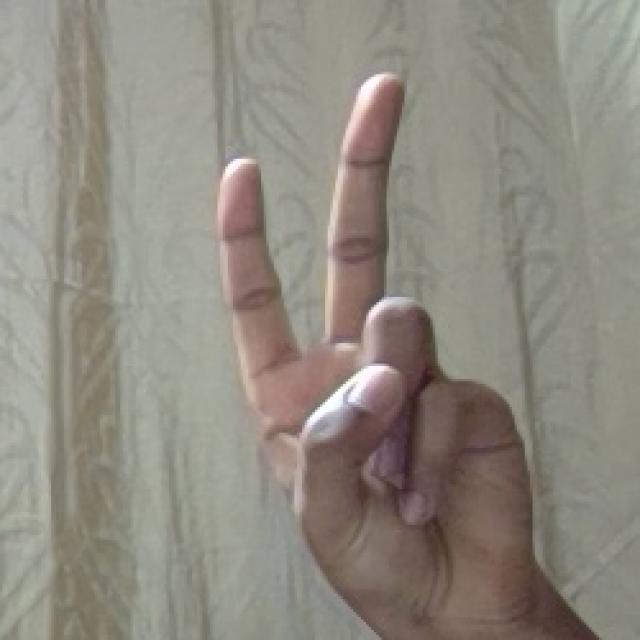Numeric-2: (216, 65, 537, 621)
